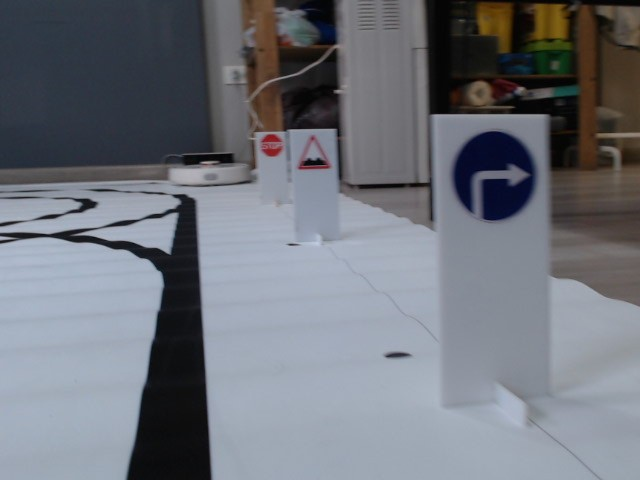Nerov: (298, 133, 331, 170)
Right: (451, 130, 537, 224)
Stop: (258, 134, 282, 155)
